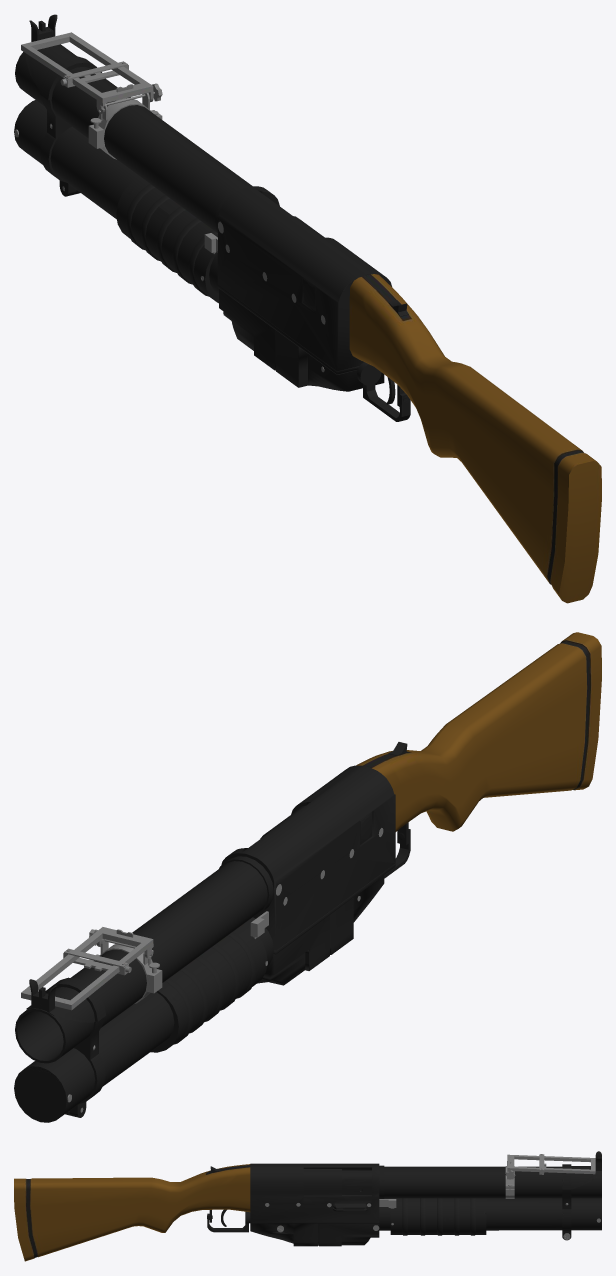
The picture shows the model from 3 angles, top to bottom: view 1: azimuth 30°, elevation 25°; view 2: azimuth 150°, elevation 25°; view 3: azimuth 270°, elevation 25°; orthographic projection. The views are drawn at different scales.
Parts seen in each view (by area): view 1: stock_low, mainpiece_low, barrel_low, pump_low, pumpslider_low, barrelholderandsight_low, sight_low, triggerguardpiece1_low, sightholder_low; view 2: stock_low, mainpiece_low, barrel_low, pumpslider_low, pump_low, barrelholderandsight_low, sight_low, sightholder_low; view 3: stock_low, mainpiece_low, barrel_low, pumpslider_low, pump_low, barrelholderandsight_low, sight_low, triggerguardpiece1_low, sightholder_low.
Boxes of the visible parts, box(x1,y1,x2,y2) form: stock_low: box(349, 274, 601, 603); mainpiece_low: box(217, 186, 391, 391); barrel_low: box(15, 52, 252, 233); pump_low: box(116, 177, 218, 303); pumpslider_low: box(14, 100, 218, 294); barrelholderandsight_low: box(26, 14, 101, 196); sight_low: box(21, 32, 153, 113); triggerguardpiece1_low: box(357, 362, 410, 421); sightholder_low: box(88, 93, 162, 159); stock_low: box(356, 632, 601, 831); mainpiece_low: box(221, 765, 395, 985); barrel_low: box(15, 856, 273, 1063); pumpslider_low: box(14, 917, 273, 1122); pump_low: box(150, 924, 267, 1052); barrelholderandsight_low: box(26, 977, 106, 1117); sight_low: box(21, 927, 153, 1010); sightholder_low: box(89, 939, 162, 1003); stock_low: box(14, 1164, 250, 1261); mainpiece_low: box(250, 1163, 379, 1246); barrel_low: box(379, 1165, 601, 1198); pumpslider_low: box(379, 1198, 601, 1230); pump_low: box(390, 1198, 486, 1235); barrelholderandsight_low: box(562, 1151, 601, 1240); sight_low: box(507, 1154, 595, 1174); triggerguardpiece1_low: box(207, 1211, 250, 1232); sightholder_low: box(505, 1161, 514, 1198).
Size of the model in its own units: 0.1531 by 0.3927 by 2.
Materials: 1 (1 with a texture image).
